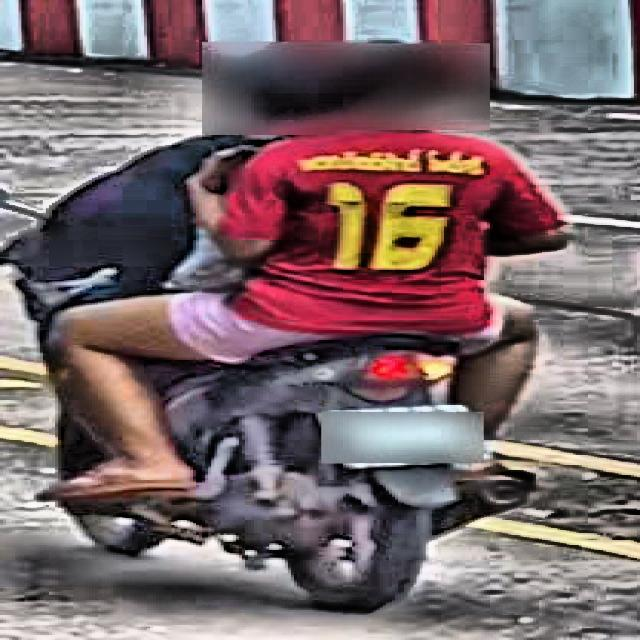motorcycle: (16, 171, 578, 640)
